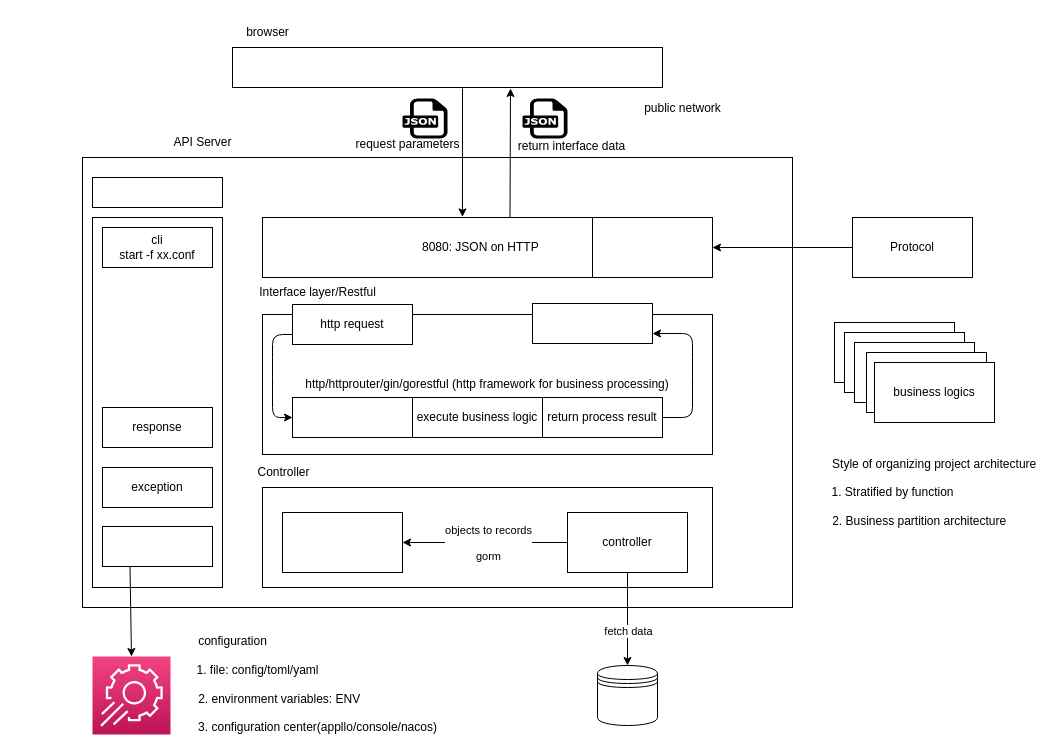
This 1064x756 diagram has some shape labels left out. Here are the shapes that lost their labels. From the top down, the centre of each, then its label:
pixel 157 192: main entry
pixel 652 247: HTTP Server
pixel 592 323: http response
pixel 352 417: parse user request
pixel 157 546: conf
pixel 342 542: model
